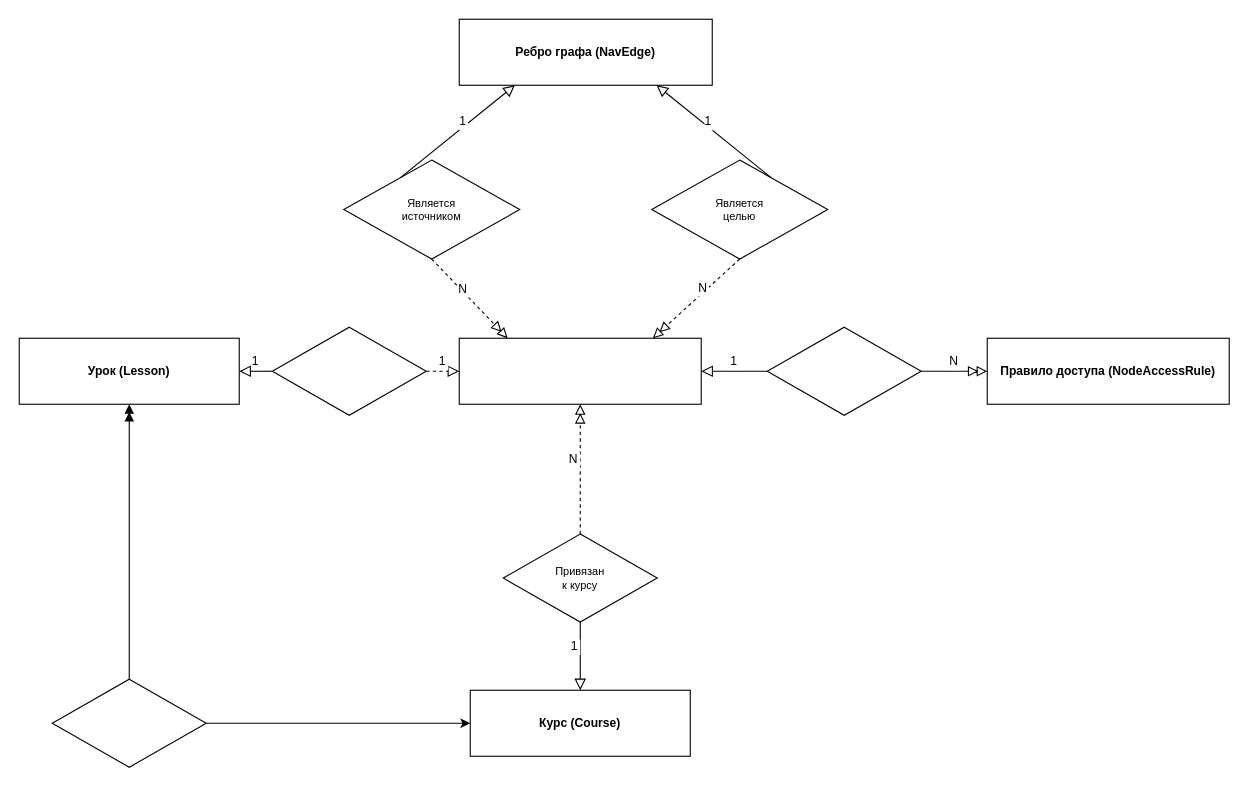
Image size: 1249x787. Some labels were removed from this diagram. The shapes that lost their labels are listed below. From the top down, each one's centre as x and y in pixels, then its label:
(348,370): Привязан к уроку
(579,370): Узел графа (NavNode)
(843,370): Определяет права
(128,722): Содержит
